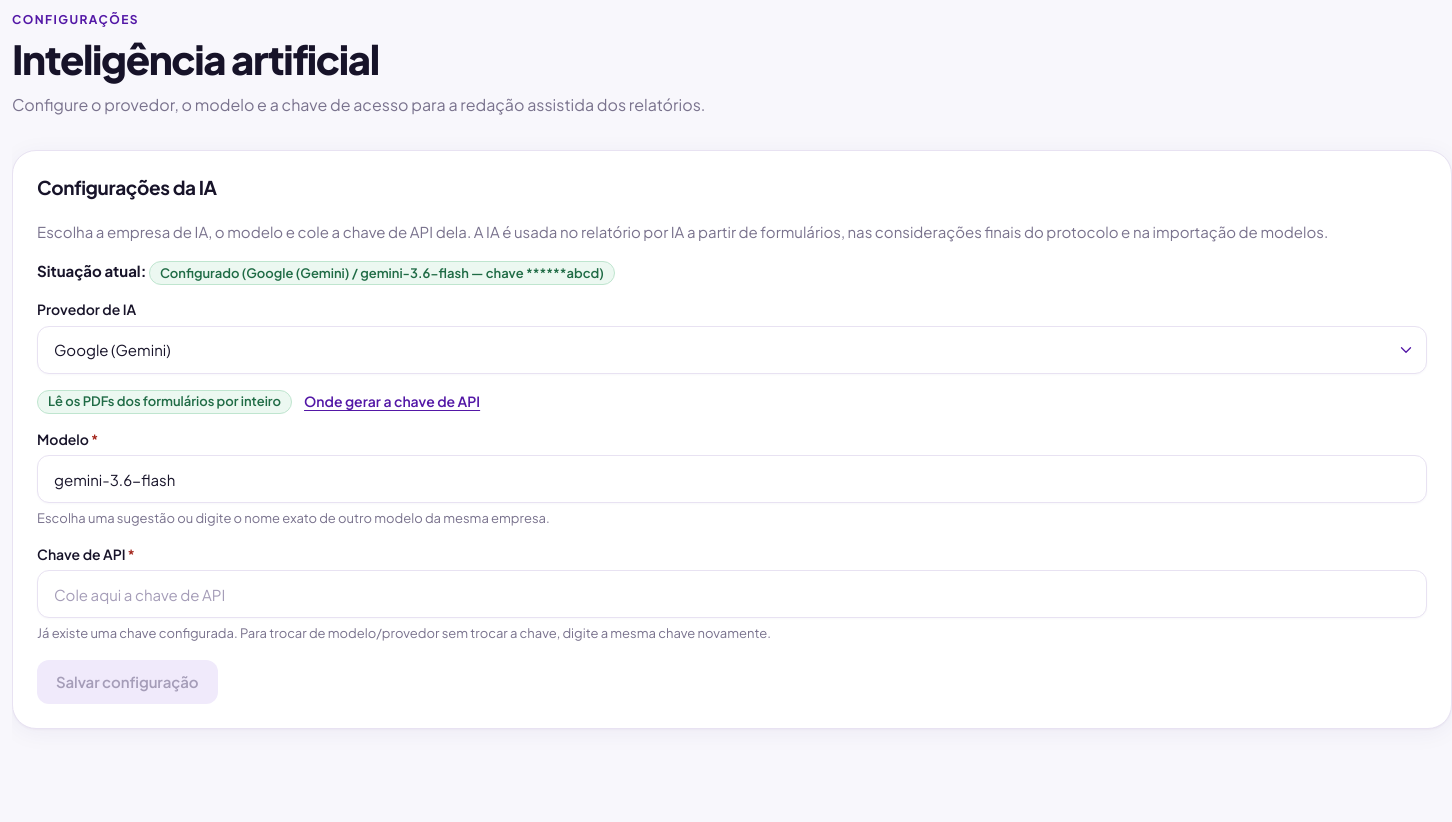
Configurações → Inteligência Artificial › lista os provedores do backend, mostra como cada um lê os PDFs e salva a escolha
Expected: the text "Configurado (Google (Gemini) / gemini-3.6-flash" is shown, x1=149 y1=261 x2=615 y2=285
Expected: the text "Lê os PDFs dos formulários por inteiro" is shown, x1=37 y1=390 x2=292 y2=414
Select "DeepSeek" in the dropdown labelled "Provedor de IA": point(732, 350) x1=37 y1=326 x2=1427 y2=374
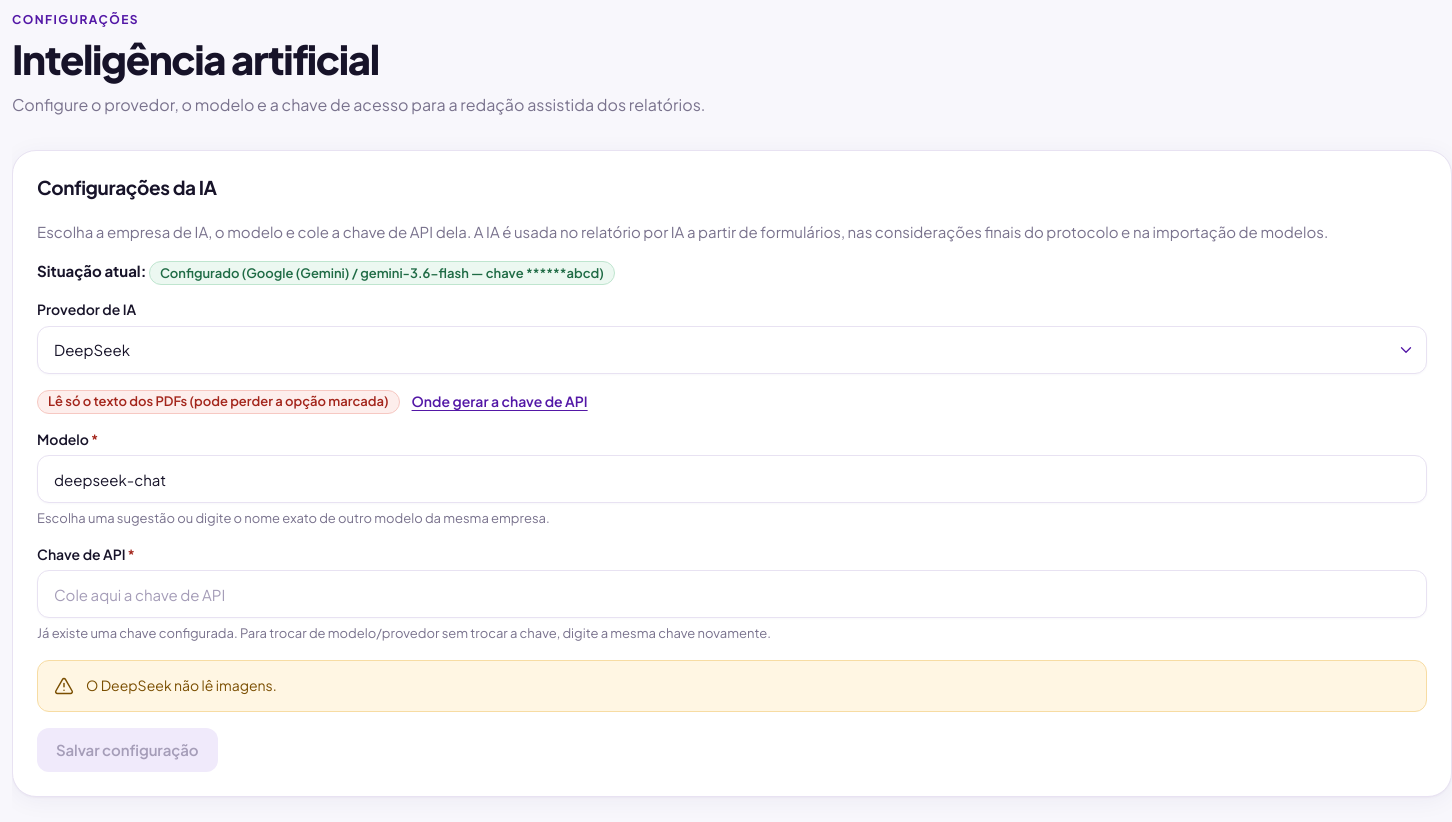
Expected: the text "Lê só o texto dos PDFs (pode perder a opção marcada)" is shown, x1=37 y1=390 x2=400 y2=414
Expected: the text "O DeepSeek não lê imagens." is shown, x1=86 y1=676 x2=277 y2=694
Expected: the field labelled "Modelo*" holds "deepseek-chat", x1=37 y1=455 x2=1427 y2=503
Select "xAI (Grok)" in the dropdown labelled "Provedor de IA": point(732, 350) x1=37 y1=326 x2=1427 y2=374
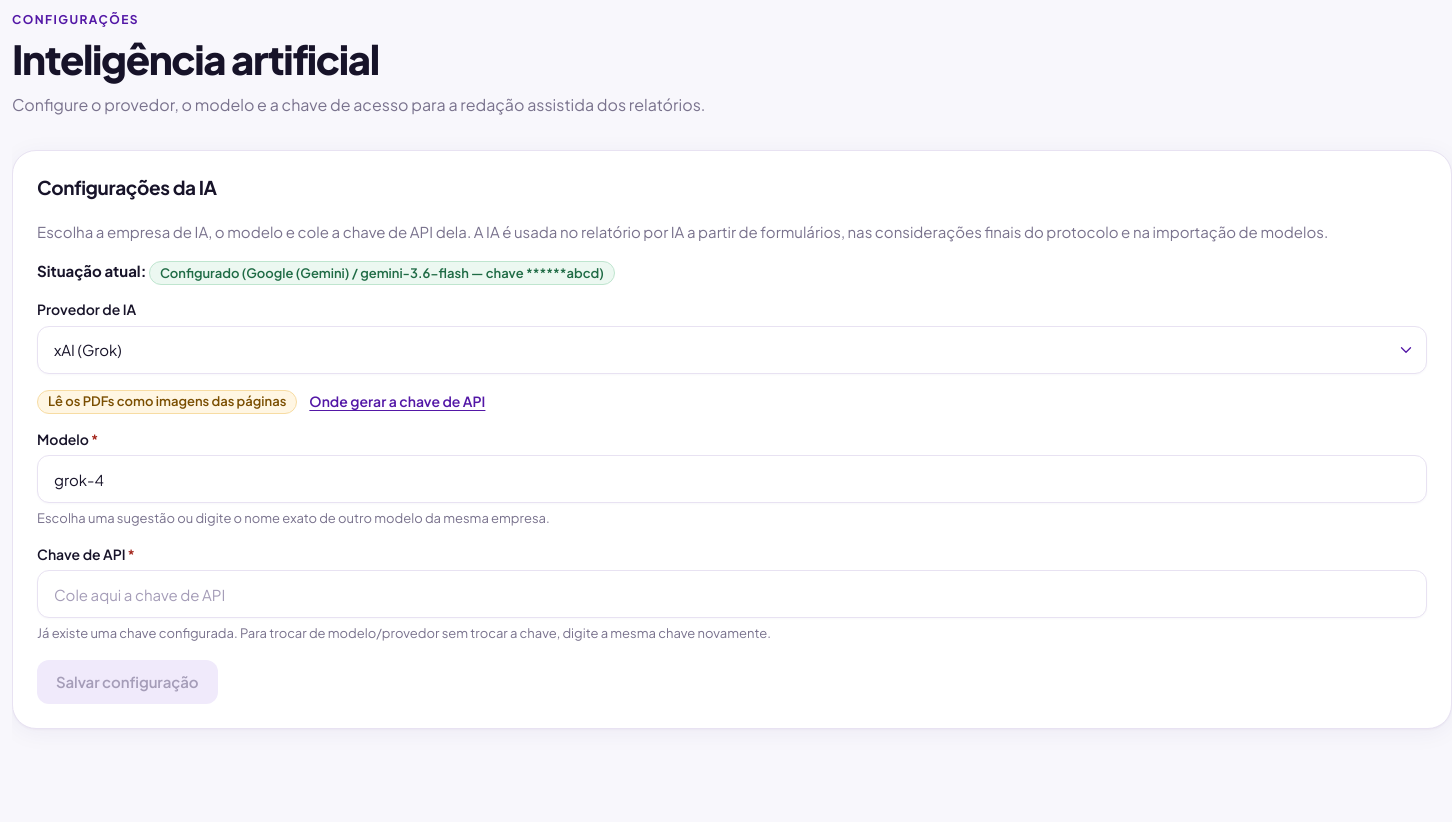
Expected: the link "Onde gerar a chave de API" has attribute href="https://console.x.ai", x1=309 y1=392 x2=485 y2=412
In the password field labelled "Chave de API*": point(732, 594) x1=37 y1=570 x2=1427 y2=618, type "xai-9999"
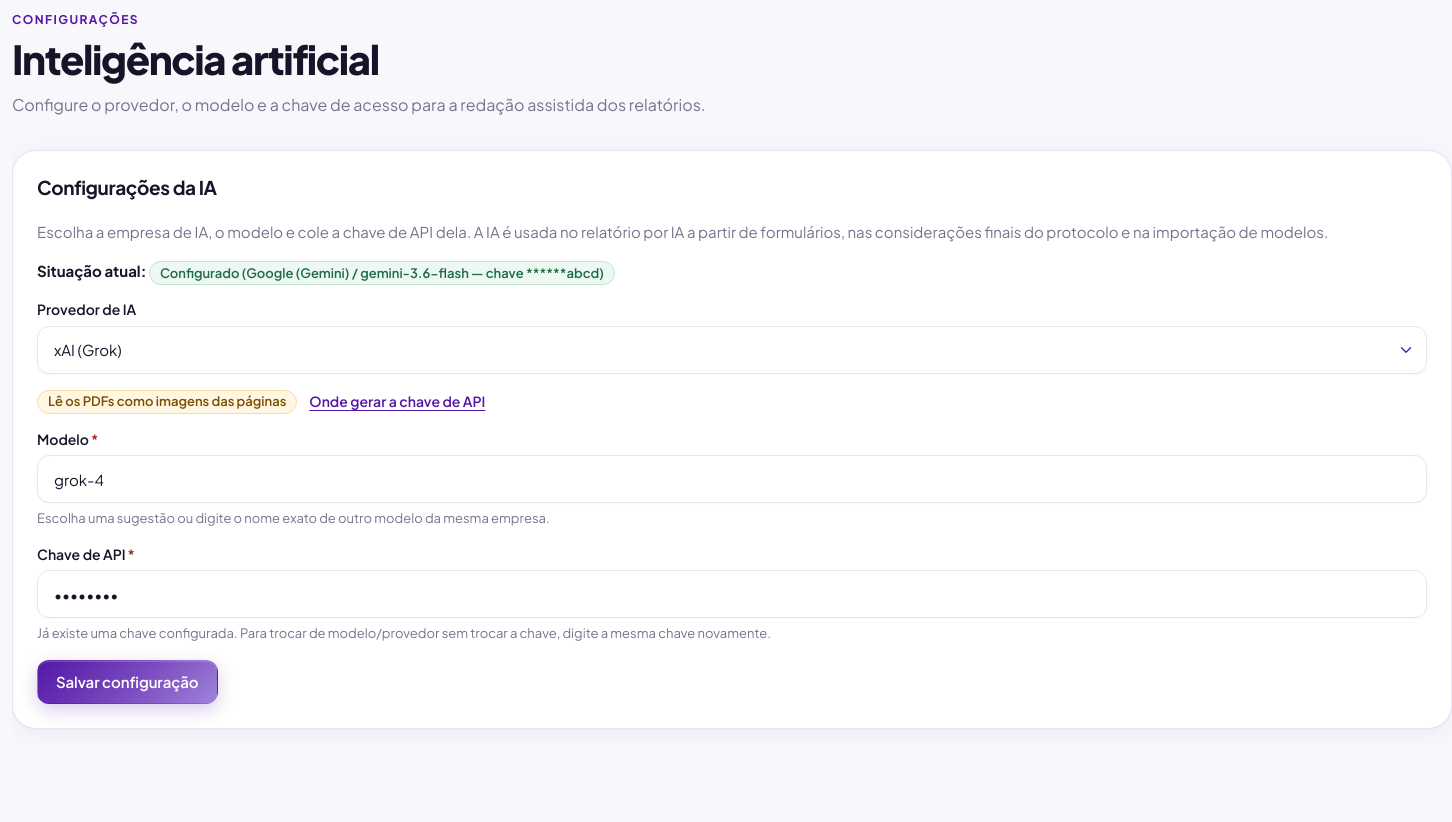
Click the button "Salvar configuração": point(127, 682) x1=37 y1=660 x2=218 y2=704
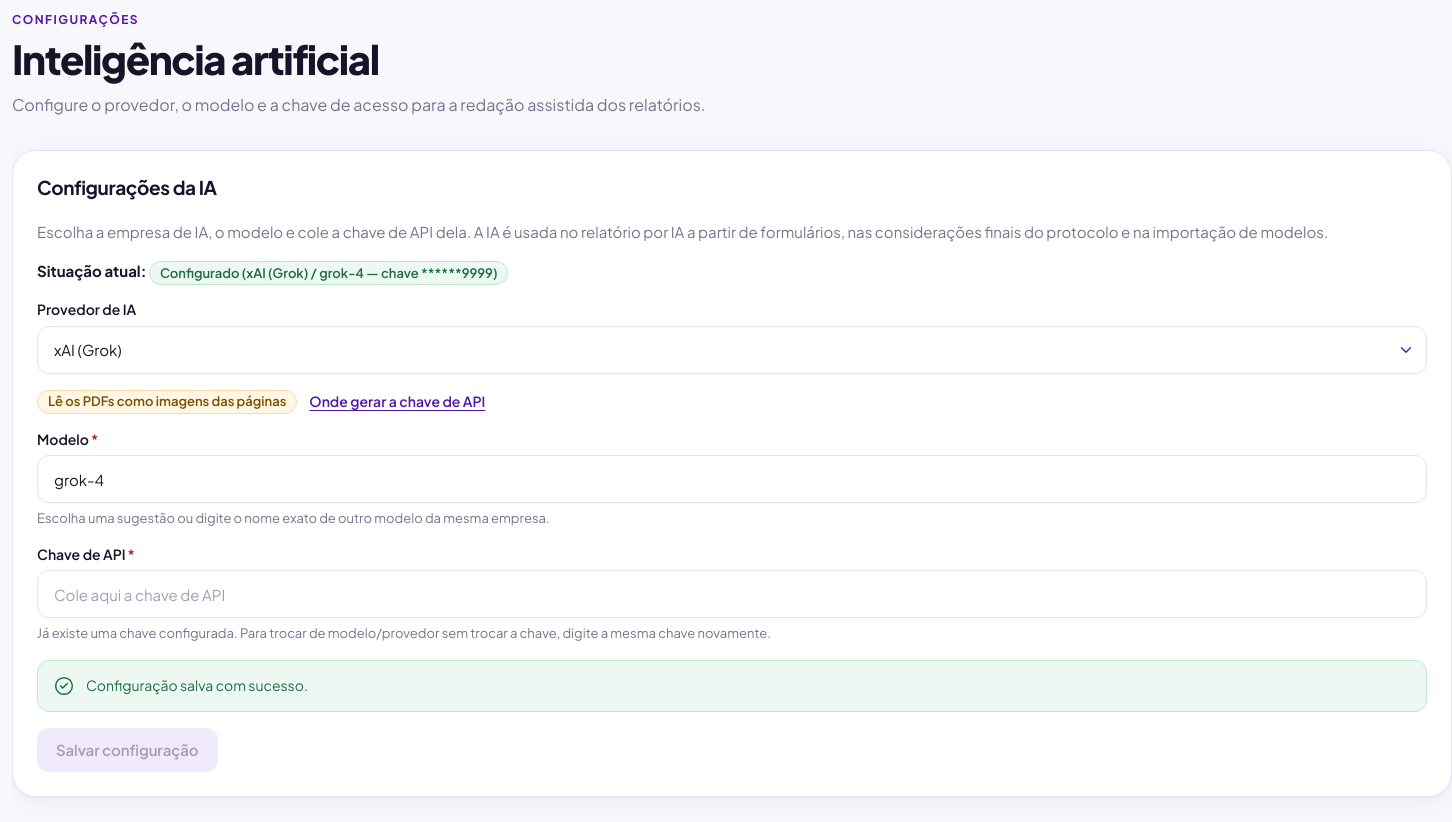
Expected: the text "Configuração salva com sucesso." is shown, x1=86 y1=676 x2=308 y2=694
